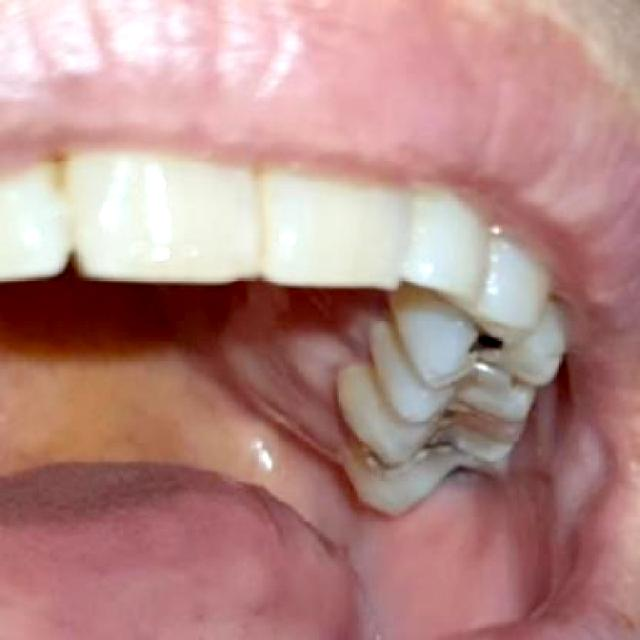Plaque: (501, 367, 525, 398)
